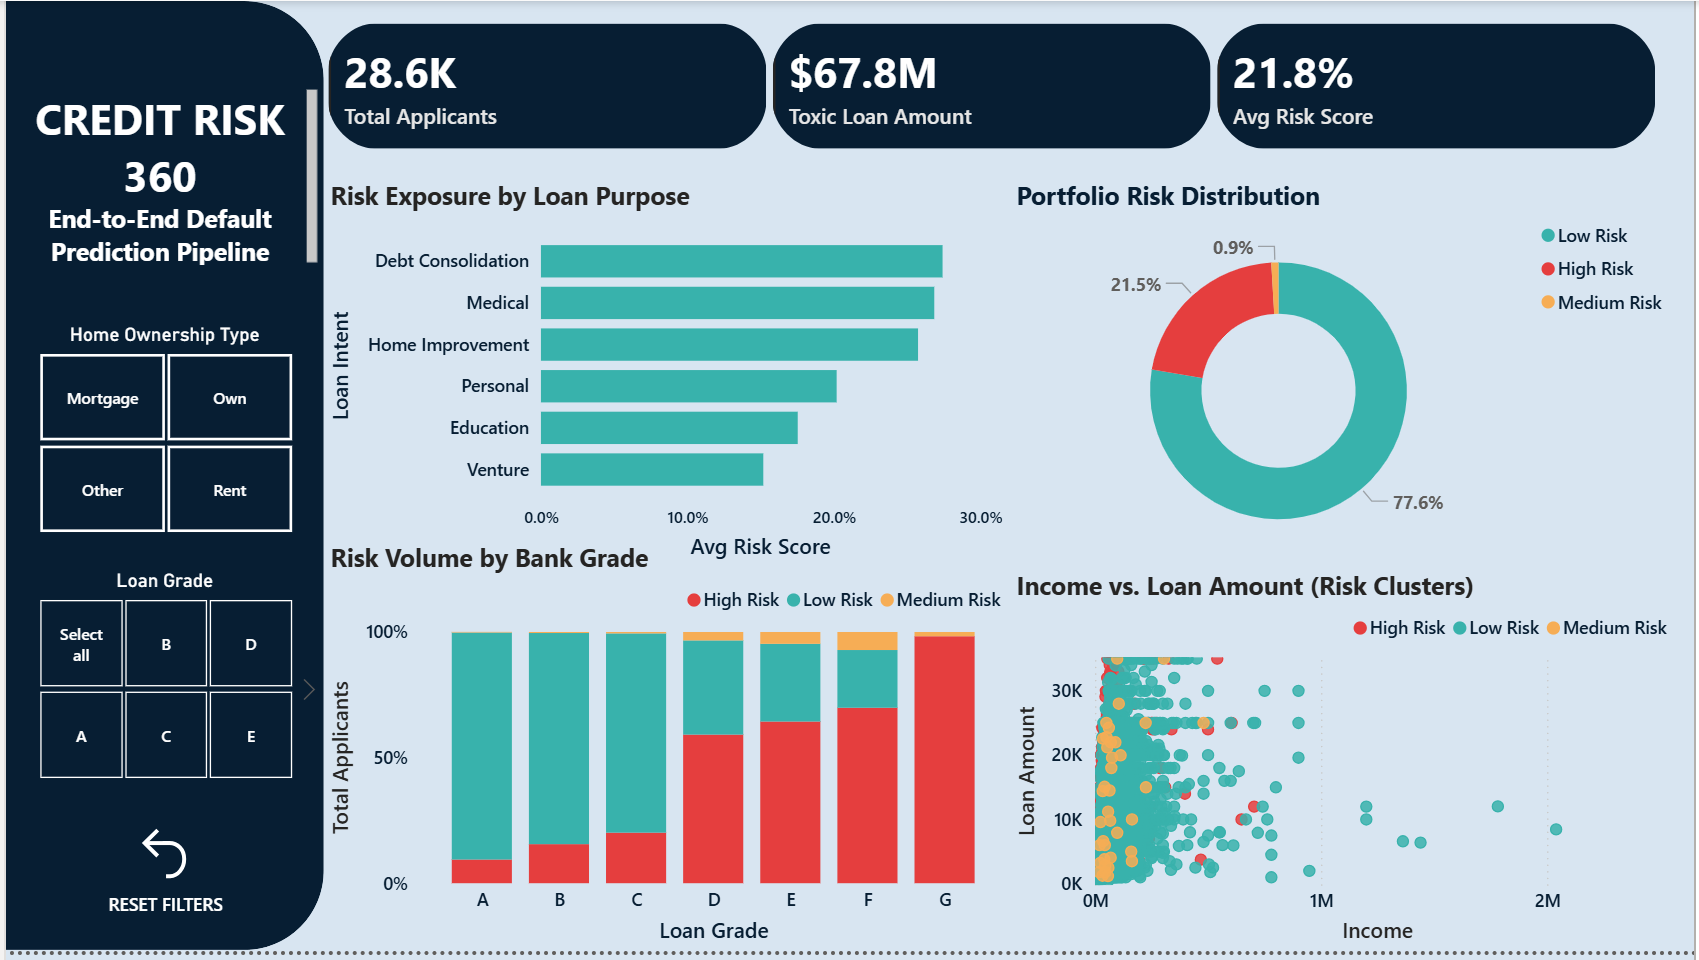

Layout of this report page (visuals, bound fields, positions):
{"tool":"powerbi","page":{"name":"Page 1","canvas":[1280,720],"ordinal":0},"visuals":[{"type":"cardVisual","fields":{"Data":["risk_scored_data.Total Applicants","risk_scored_data.Toxic Loan Amount","risk_scored_data.Avg Risk Score"]},"box":[227.9,0,1041,129.5],"z":0},{"type":"shape","box":[0,0,241,719.7],"z":1000},{"type":"textbox","box":[0,62.3,241,142.6],"z":2000},{"type":"donutChart","title":"Portfolio Risk Distribution","fields":{"Category":["risk_scored_data.risk_segment"],"Y":["risk_scored_data.Total Applicants"]},"box":[760.7,134.4,508.2,296.7],"z":3000},{"type":"clusteredBarChart","title":"Risk Exposure by Loan Purpose","fields":{"Category":["risk_scored_data.loan_intent"],"Y":["risk_scored_data.Avg Risk Score"]},"box":[241,134.4,519.7,293.4],"z":4000},{"type":"hundredPercentStackedColumnChart","title":"Risk Volume by Bank Grade","fields":{"Category":["risk_scored_data.loan_grade"],"Y":["risk_scored_data.Total Applicants"],"Series":["risk_scored_data.risk_segment"]},"box":[241,409.8,523,309.8],"z":5000},{"type":"scatterChart","title":"Income vs. Loan Amount (Risk Clusters)","fields":{"X":["risk_scored_data.person_income"],"Y":["risk_scored_data.loan_amnt"],"Series":["risk_scored_data.risk_segment"]},"box":[761,431,508,289],"z":6000},{"type":"slicer","title":"Home Ownership Type","fields":{"Values":["risk_scored_data.person_home_ownership"]},"box":[0,244.3,241,165.6],"z":7000},{"type":"slicer","title":"Loan Grade","fields":{"Values":["risk_scored_data.loan_grade"]},"box":[0,431.1,241,165.6],"z":8000},{"type":"actionButton","box":[95.1,621.3,50.8,49.2],"z":9000},{"type":"textbox","box":[72.1,670.5,96.7,34.4],"z":10000}]}

Visuals, with their boxes in screenshot pixels (x1, y1, x2, y2), scaled from the page's 1280x720 canvas onto the 1699x960 screenshot:
cardVisual - risk_scored_data.Total Applicants x risk_scored_data.Toxic Loan Amount: bbox(303, 0, 1684, 173)
shape: bbox(0, 0, 320, 959)
textbox: bbox(0, 83, 320, 273)
"Portfolio Risk Distribution" donutChart: bbox(1010, 179, 1684, 575)
"Risk Exposure by Loan Purpose" clusteredBarChart: bbox(320, 179, 1010, 570)
"Risk Volume by Bank Grade" hundredPercentStackedColumnChart: bbox(320, 546, 1014, 959)
"Income vs. Loan Amount (Risk Clusters)" scatterChart: bbox(1010, 575, 1684, 959)
"Home Ownership Type" slicer: bbox(0, 326, 320, 547)
"Loan Grade" slicer: bbox(0, 575, 320, 796)
actionButton: bbox(126, 828, 194, 894)
textbox: bbox(96, 894, 224, 940)
